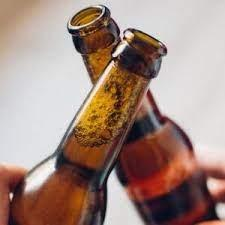glass: (12, 5, 217, 225)
